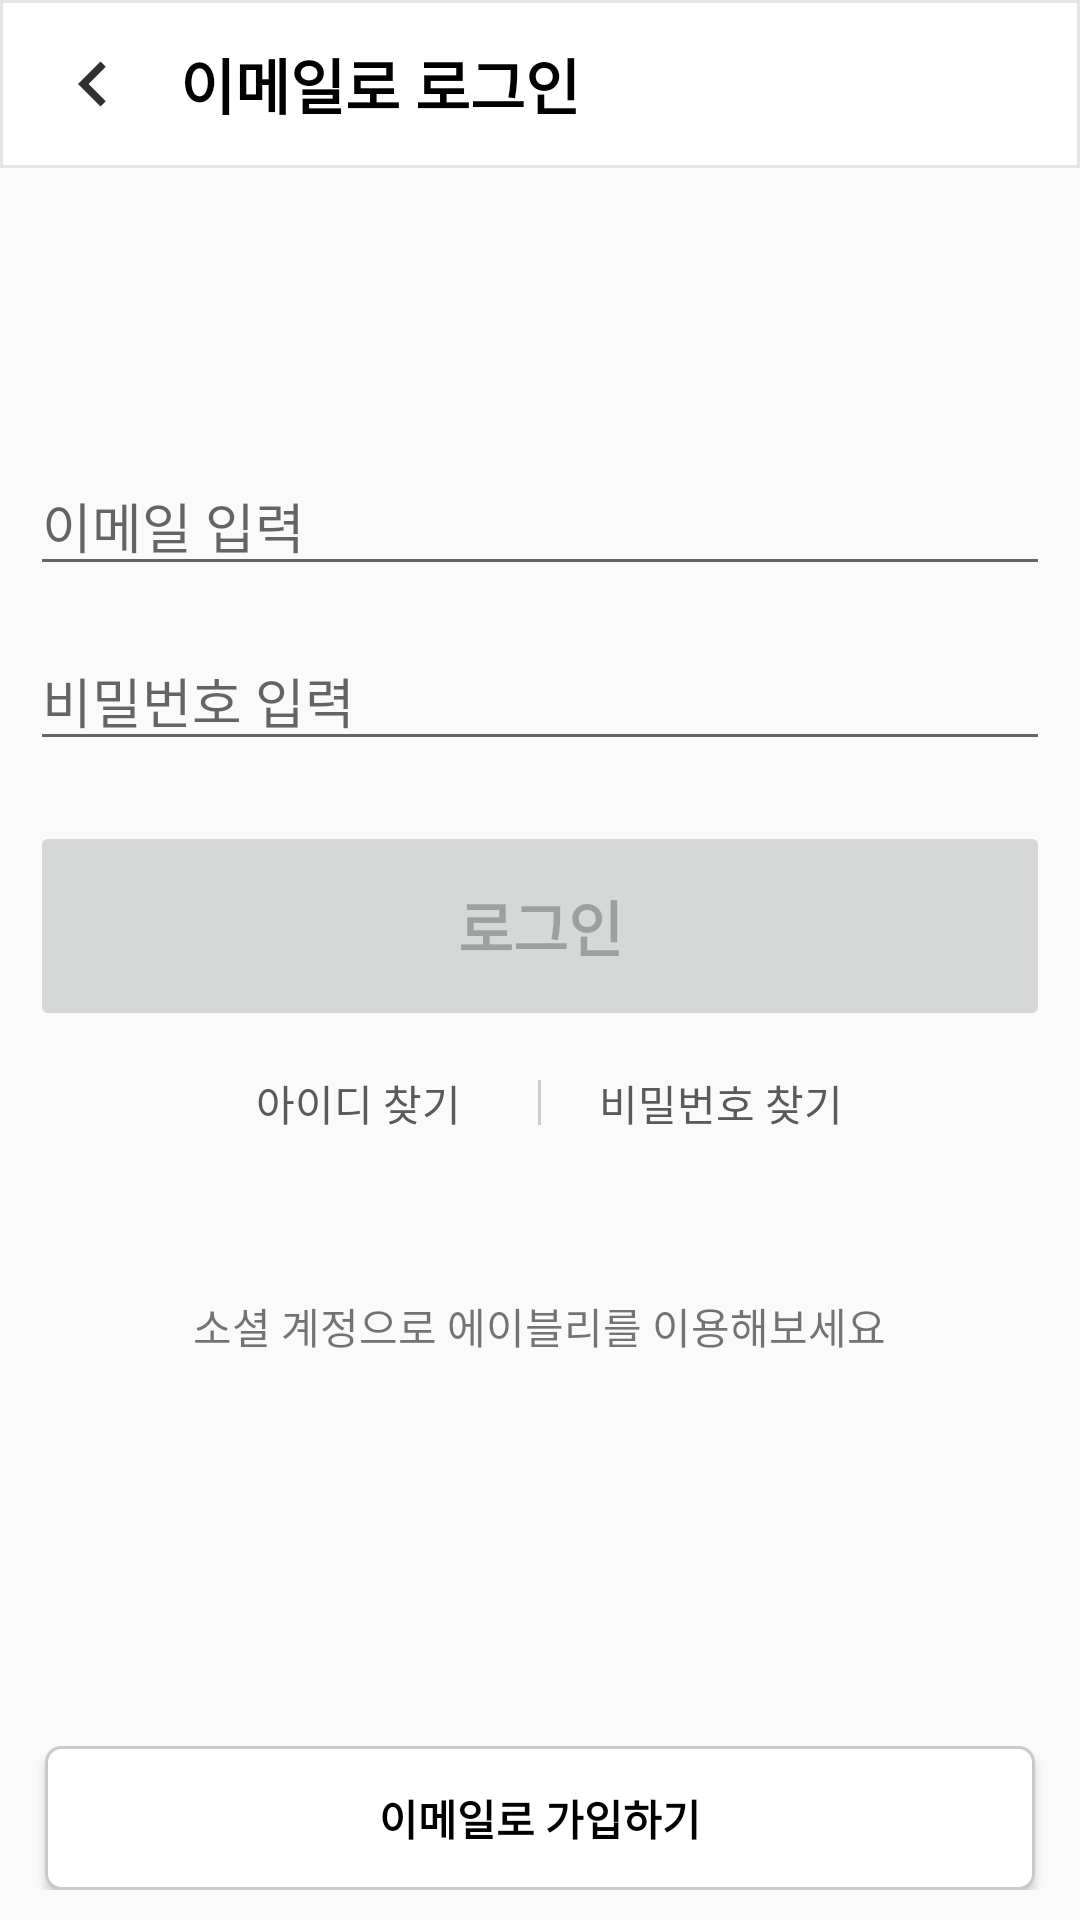

Point at icon controls on the screen. Image size 1080*1920, points as (x=x, y=y).
back: (x=92, y=84)
